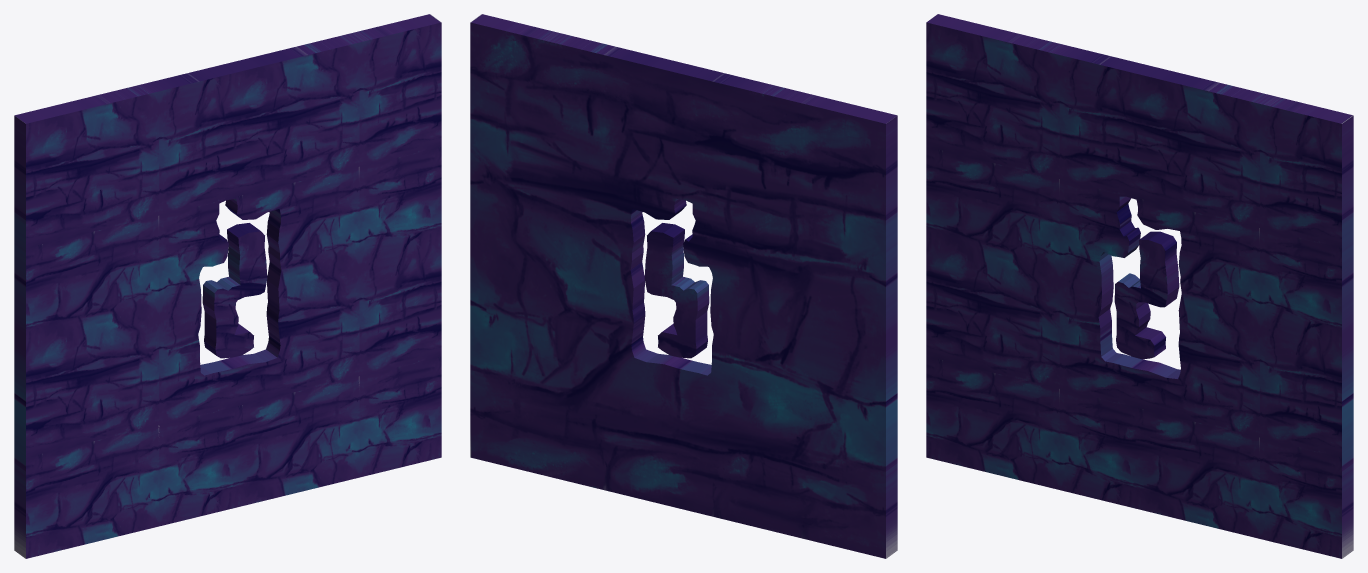
Rendered from tunel8.obj.
The picture shows the model from 3 angles, left to right: view 1: azimuth 30°, elevation 25°; view 2: azimuth 150°, elevation 25°; view 3: azimuth 330°, elevation 25°; orthographic projection.
Visible parts, largest first — view 1: Plane.046_Plane.050; view 2: Plane.046_Plane.050; view 3: Plane.046_Plane.050.
Boxes of the visible parts, x1,y1,x2,y2 form: Plane.046_Plane.050: [14, 14, 441, 558]; Plane.046_Plane.050: [470, 14, 897, 558]; Plane.046_Plane.050: [926, 14, 1353, 558].
Size of the model in its own units: 1273 by 1273 by 61.4.
Materials: 1 (1 with a texture image).
